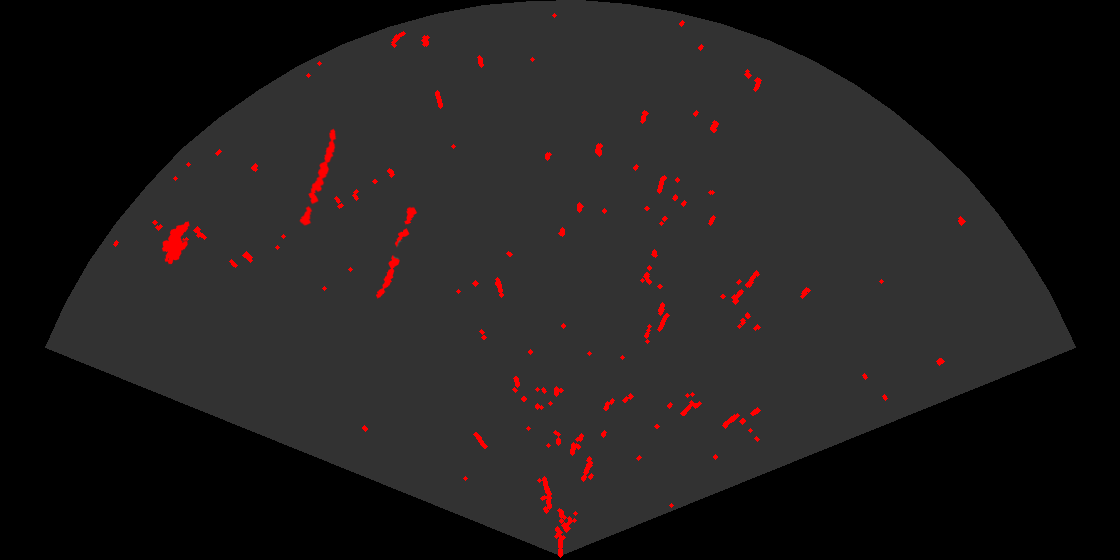AUV: (160, 220, 191, 266)
chain: (374, 205, 419, 300), (298, 127, 338, 227)
